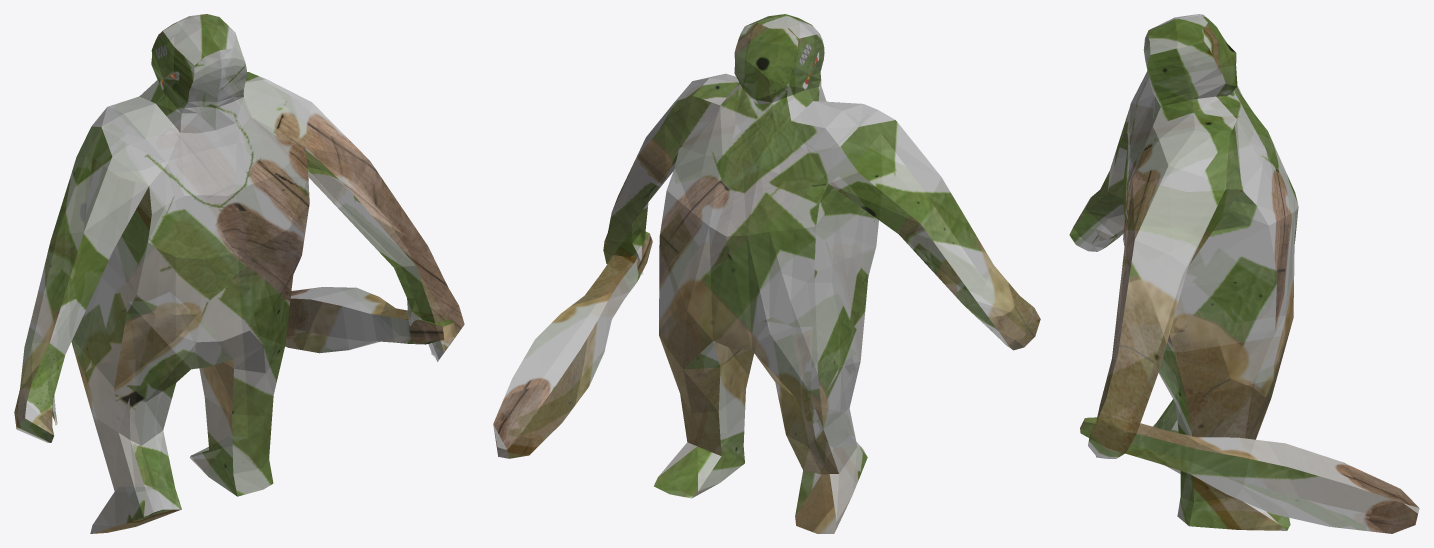
The model's file is Enemigo25.obj.
3 renders of one model, left to right at view 1: azimuth 30°, elevation 25°; view 2: azimuth 150°, elevation 25°; view 3: azimuth 270°, elevation 25°, orthographic. The views are drawn at different scales.
Visible parts, largest first — view 1: Cube; view 2: Cube; view 3: Cube.
Boxes of the visible parts, x1,y1,x2,y2 form: Cube: (14,14,464,533); Cube: (493,14,1040,533); Cube: (1069,14,1419,533).
Bounding box in the file's own units: 2.59 × 2.85 × 1.8.
